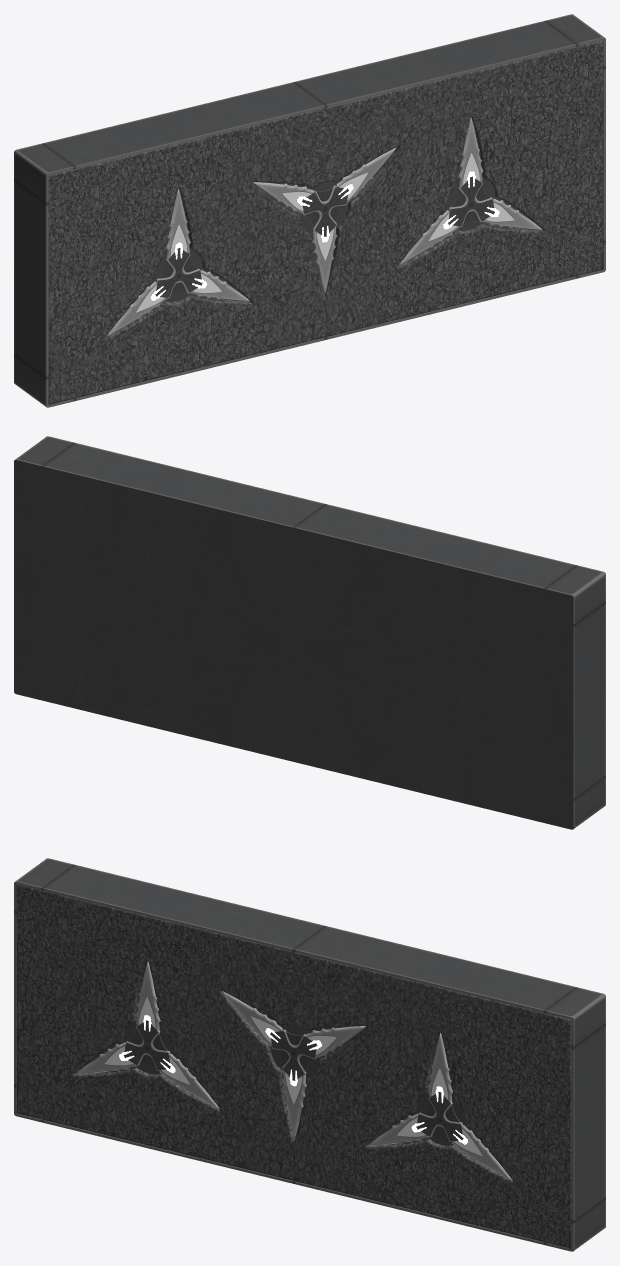
File: MeleeShuriken02Case.FBX
3 views of the same model, one above another, from view 1: azimuth 30°, elevation 25°; view 2: azimuth 150°, elevation 25°; view 3: azimuth 330°, elevation 25° (orthographic).
Parts seen in each view (by area): view 1: Case, Weapon; view 2: Case; view 3: Case, Weapon.
Boxes of the visible parts, x1=… form: Case: x1=14, y1=14, x2=605, y2=407; Weapon: x1=106, y1=118, x2=542, y2=336; Case: x1=14, y1=436, x2=605, y2=829; Case: x1=14, y1=858, x2=605, y2=1251; Weapon: x1=76, y1=961, x2=511, y2=1179.
Size of what is drawn, in the model's own units: 0.9999 by 0.4 by 0.1.
